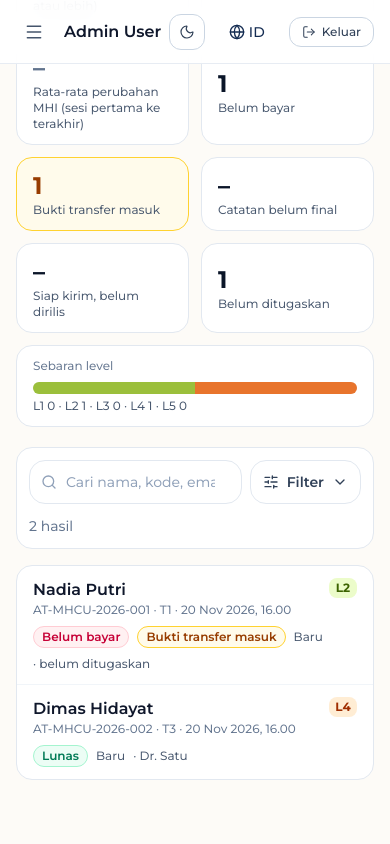
Test: MHCU dashboard › does not offer the release while the note is not final or the payment is not confirmed
(page scrolled)
Click the button "Nadia Putri" at [195, 625], box [17, 566, 373, 684]
(page scrolled)
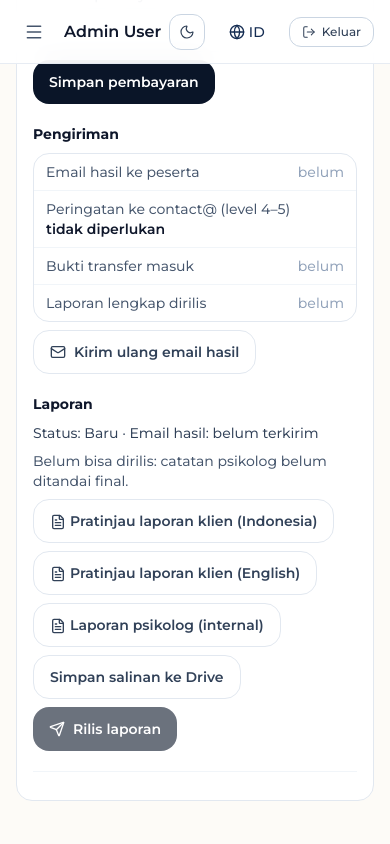
expect the button "Rilis laporan" is disabled: met, box [33, 707, 177, 751]
expect the text "Belum bisa dirilis: catatan psikolog belum ditandai final." is shown: met, box [33, 451, 357, 491]
